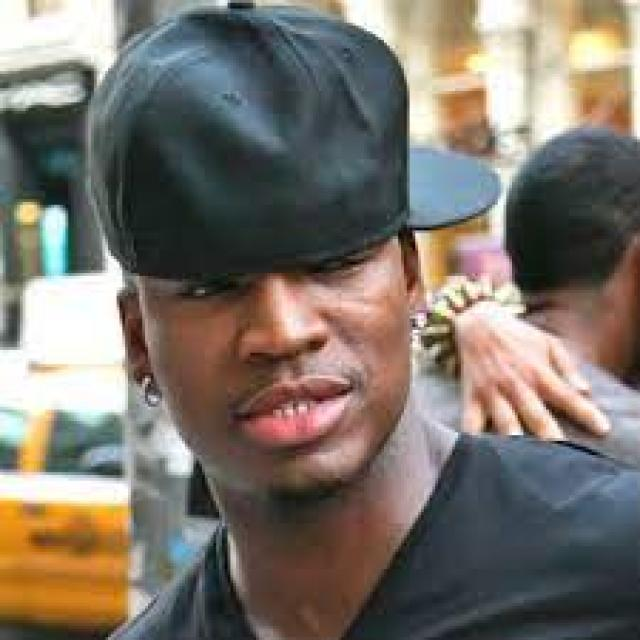cap: (71, 0, 512, 395)
